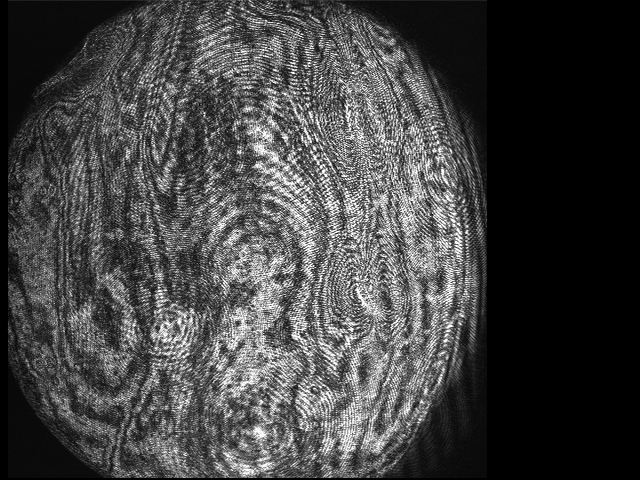plume: (326, 237, 412, 336)
